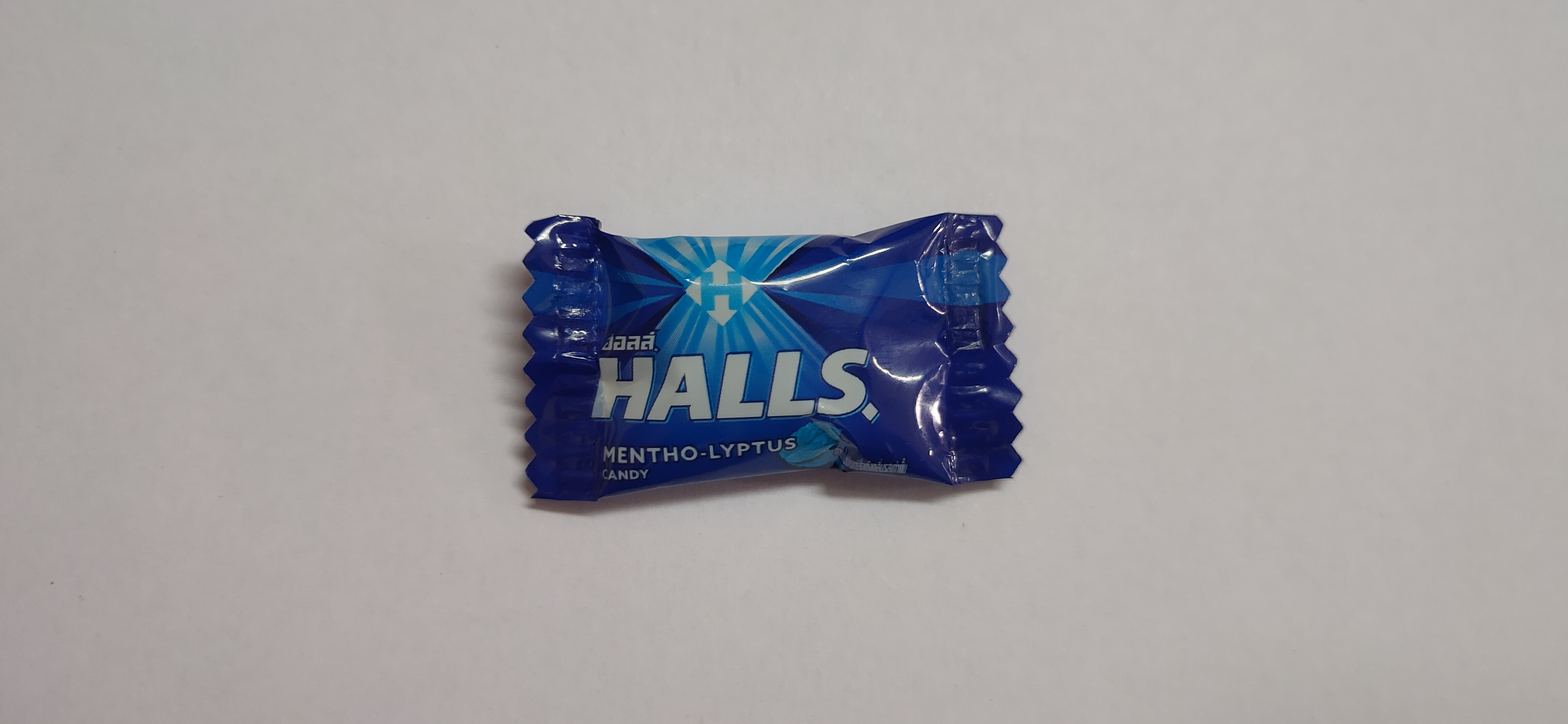plastic: (521, 208, 1035, 519)
